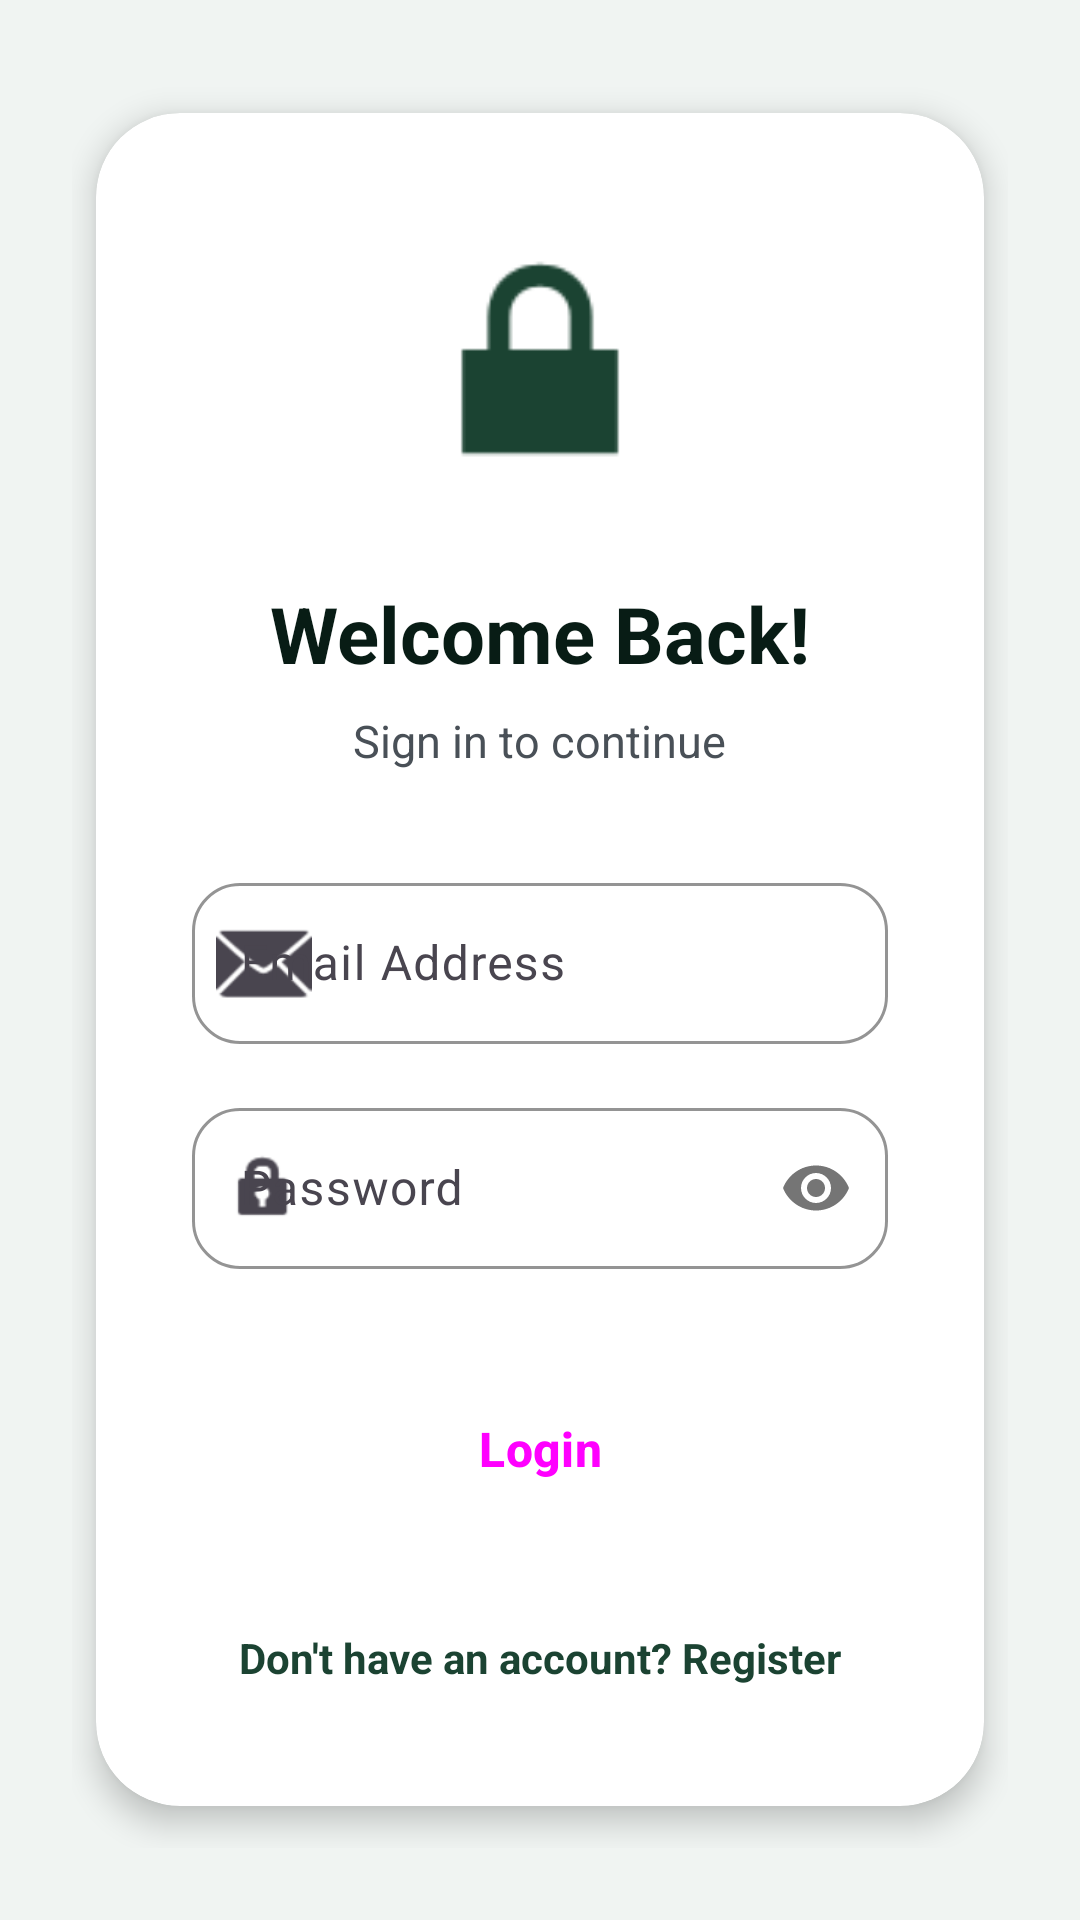

Point at icon controls on the screen. Image size 1080w x 1920h, points as [x,y].
lock: [540,359]
